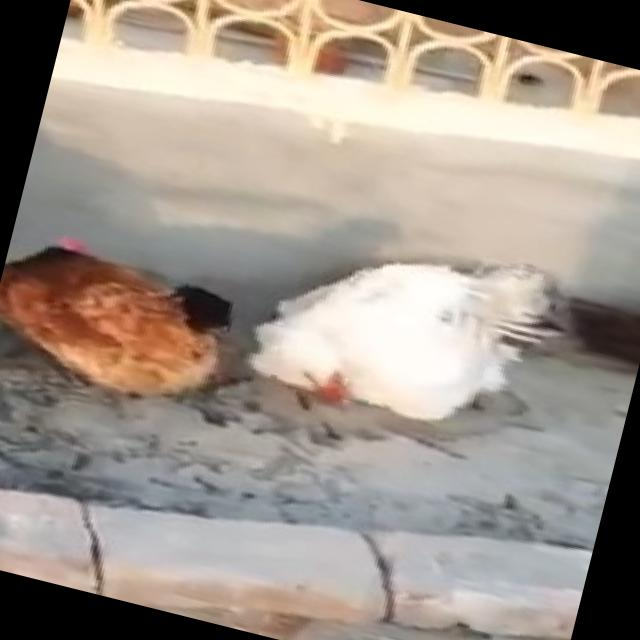stand bath: (238, 172, 584, 468), (0, 197, 243, 435)
